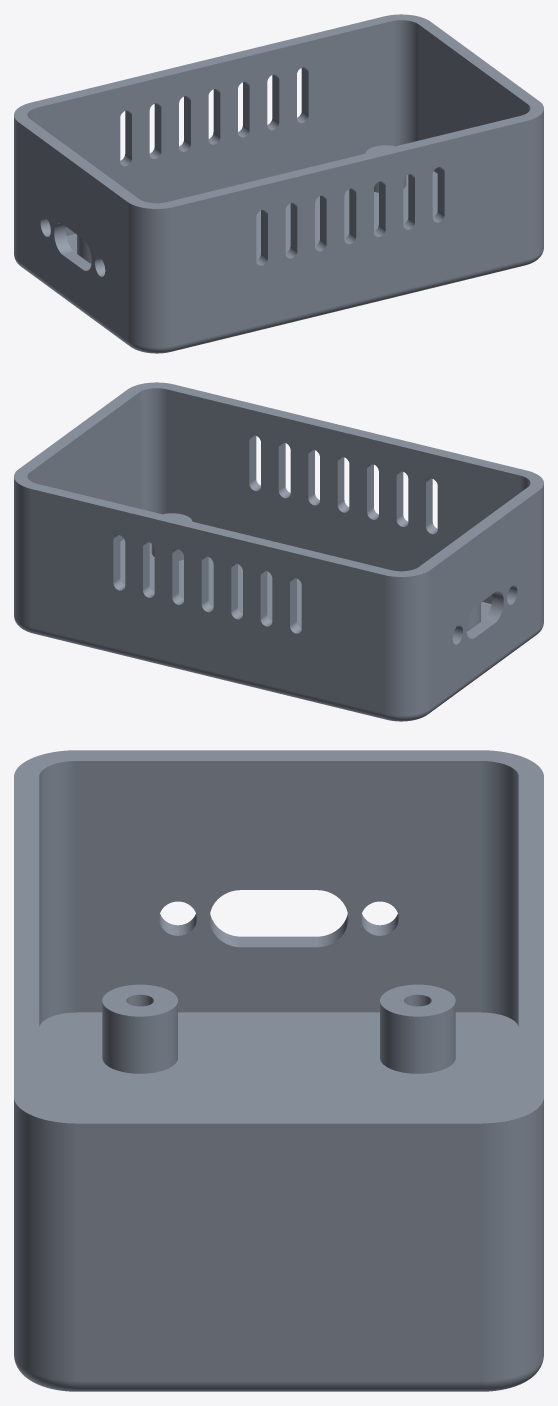
The model's file is step-4.glb.
The picture shows the model from 3 angles, top to bottom: view 1: azimuth 30°, elevation 25°; view 2: azimuth 150°, elevation 25°; view 3: azimuth 270°, elevation 25°; orthographic projection. The views are drawn at different scales.
Parts seen in each view (by area): view 1: face_38d749f3300c008729d3, face_29af3bb6c4311d1258e0, face_38c325c63db3888e8b3d, face_4668c5ffcd0d728ce001, face_6a217752b0c42edc0aa3, face_8ae94c1f7d0a9e66d1f9, face_56ad88746a78aaf93f11, face_c35c8bf9dcc2b3c32720, face_bc76a13d16a970b63849, face_1b3d598492a9639bbd0c, face_fd40d69dbfc97b0ae30c, face_f6ea822d1165a68862af; view 2: face_4bc607b143643134fda7, face_b9d7b505d2d50ebef19e, face_38c325c63db3888e8b3d, face_4668c5ffcd0d728ce001, face_6a217752b0c42edc0aa3, face_fd40d69dbfc97b0ae30c, face_ae601b474693ad150bbf, face_b7d12cd943e777221633, face_0a83f1b7115055c8b5fd, face_1b3d598492a9639bbd0c, face_8ae94c1f7d0a9e66d1f9, face_f6ea822d1165a68862af; view 3: face_f9e02b68c5aadb2a0dd7, face_b0a05cc6bf7ba72e6d06, face_1b3d598492a9639bbd0c, face_4668c5ffcd0d728ce001, face_c35c8bf9dcc2b3c32720, face_b7d12cd943e777221633, face_fabfacf65a1967ea229c, face_25034a257e1fccea2564, face_8ff70ed42a7977d22eb0, face_4c828be77a25846b4e86, face_2224a598ba7899796422, face_5067d3e25ac6399ec6f4 (+2 smaller).
Boxes of the visible parts, <box> form: face_38d749f3300c008729d3: <box>173,121,526,345</box>; face_29af3bb6c4311d1258e0: <box>37,21,390,235</box>; face_38c325c63db3888e8b3d: <box>18,122,127,339</box>; face_4668c5ffcd0d728ce001: <box>14,14,543,208</box>; face_6a217752b0c42edc0aa3: <box>419,25,527,173</box>; face_8ae94c1f7d0a9e66d1f9: <box>127,202,173,347</box>; face_56ad88746a78aaf93f11: <box>391,20,418,146</box>; face_c35c8bf9dcc2b3c32720: <box>527,110,543,259</box>; face_bc76a13d16a970b63849: <box>172,259,526,351</box>; face_1b3d598492a9639bbd0c: <box>66,171,437,263</box>; face_fd40d69dbfc97b0ae30c: <box>14,116,18,260</box>; face_f6ea822d1165a68862af: <box>18,261,128,345</box>; face_4bc607b143643134fda7: <box>31,489,384,713</box>; face_b9d7b505d2d50ebef19e: <box>167,389,520,603</box>; face_38c325c63db3888e8b3d: <box>430,490,539,707</box>; face_4668c5ffcd0d728ce001: <box>14,382,543,576</box>; face_6a217752b0c42edc0aa3: <box>30,393,138,541</box>; face_fd40d69dbfc97b0ae30c: <box>384,570,430,715</box>; face_ae601b474693ad150bbf: <box>139,388,166,514</box>; face_b7d12cd943e777221633: <box>14,478,30,627</box>; face_0a83f1b7115055c8b5fd: <box>31,627,385,719</box>; face_1b3d598492a9639bbd0c: <box>120,539,491,631</box>; face_8ae94c1f7d0a9e66d1f9: <box>539,484,543,628</box>; face_f6ea822d1165a68862af: <box>429,629,539,713</box>; face_f9e02b68c5aadb2a0dd7: <box>77,1123,480,1380</box>; face_b0a05cc6bf7ba72e6d06: <box>77,761,480,1012</box>; face_1b3d598492a9639bbd0c: <box>39,1012,518,1112</box>; face_4668c5ffcd0d728ce001: <box>14,750,543,1123</box>; face_c35c8bf9dcc2b3c32720: <box>14,1099,76,1380</box>; face_b7d12cd943e777221633: <box>481,1099,543,1380</box>; face_fabfacf65a1967ea229c: <box>39,761,76,1026</box>; face_25034a257e1fccea2564: <box>481,761,518,1026</box>; face_8ff70ed42a7977d22eb0: <box>77,1381,480,1391</box>; face_4c828be77a25846b4e86: <box>102,1002,177,1073</box>; face_2224a598ba7899796422: <box>380,1002,455,1073</box>; face_5067d3e25ac6399ec6f4: <box>102,984,177,1016</box>.
Bounding box in the file's own units: 0.07 × 0.024 × 0.042.
